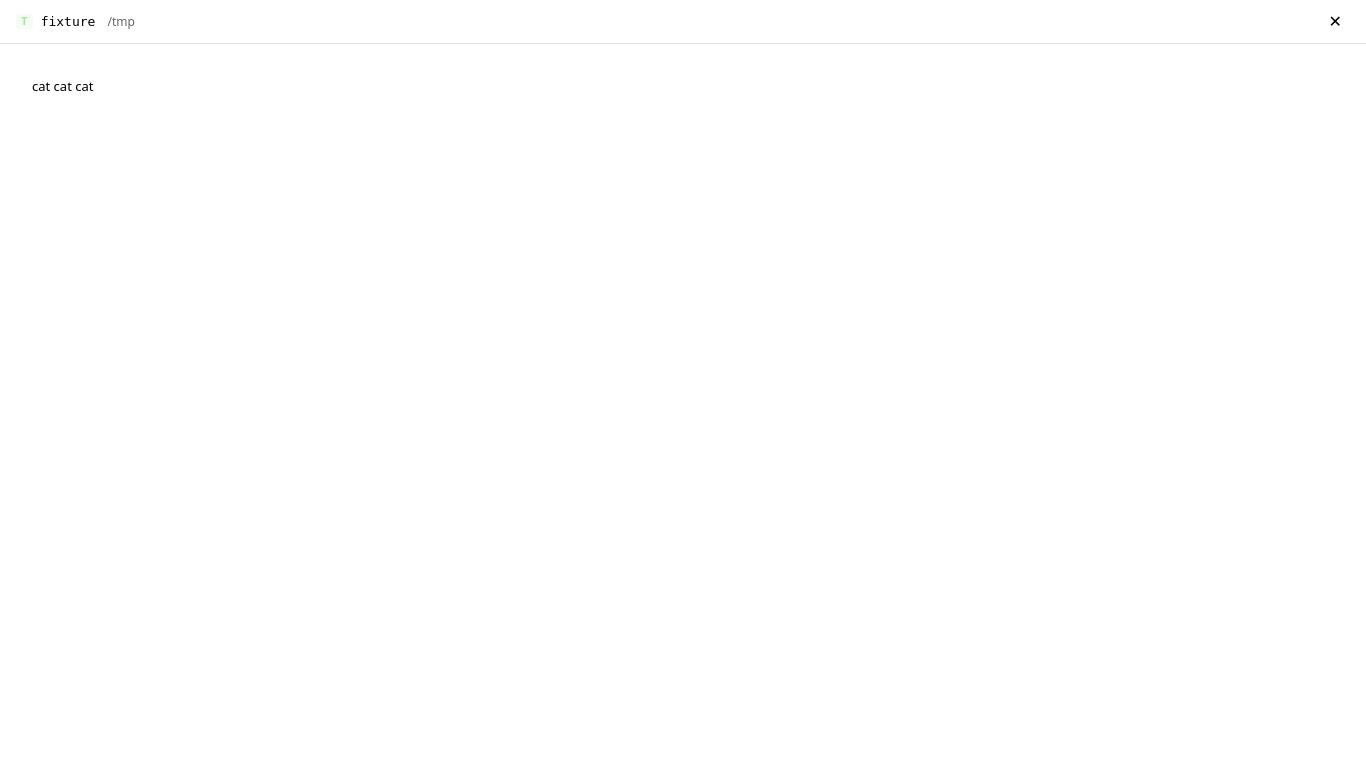
Scenario: App keyboard handling › typing a query shows the match count and highlights matches
Press f
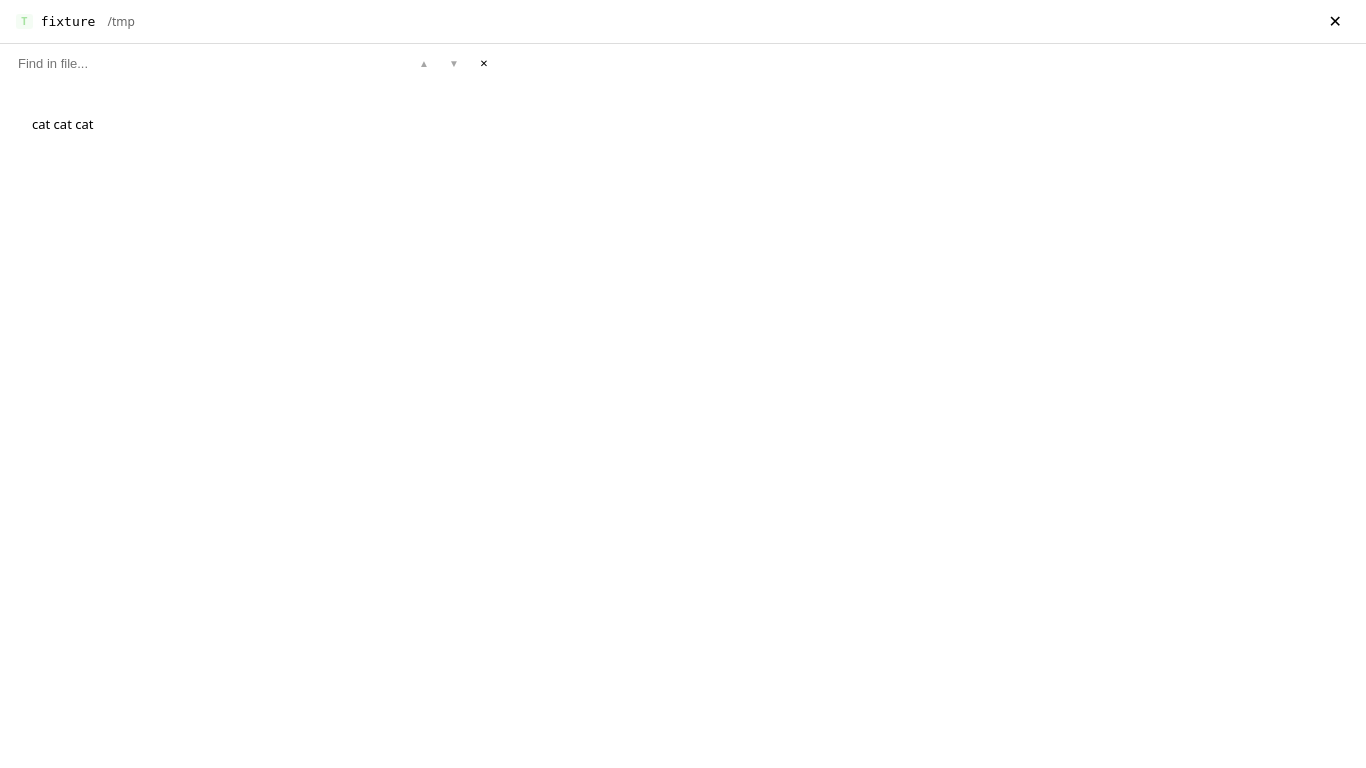
Type "cat" into the field with placeholder "Find in file...".
click(170, 63); type("cat")  # box [10, 49, 330, 77]
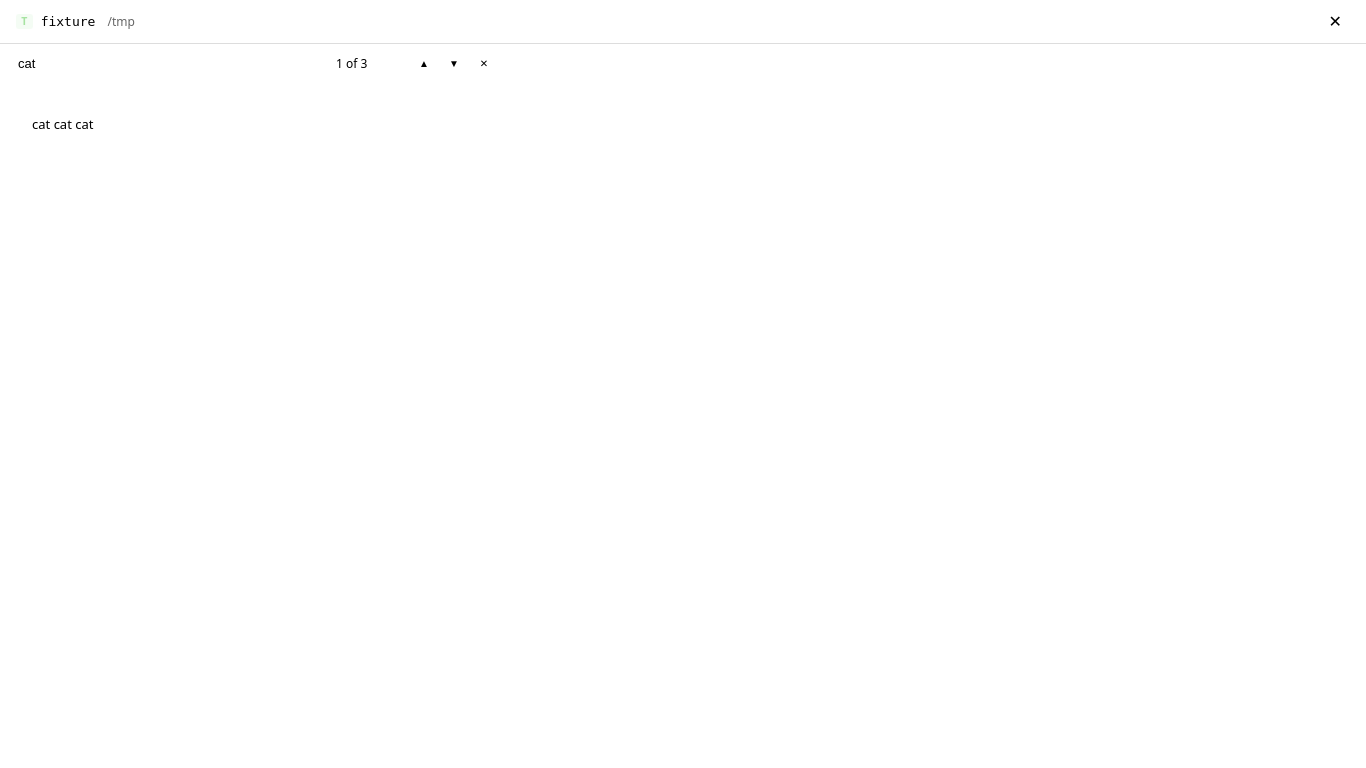
Expected: the text "1 of 3" is shown, [336, 54, 367, 72]
Expected: the number of elements with class "search-match" is 3, [32, 115, 50, 133]; [54, 115, 72, 133]; [75, 115, 94, 133]
